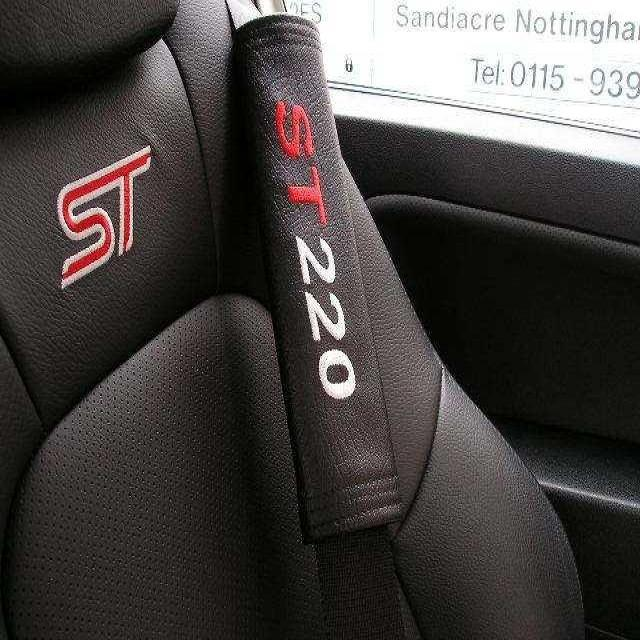seatbelt: (221, 11, 417, 622)
